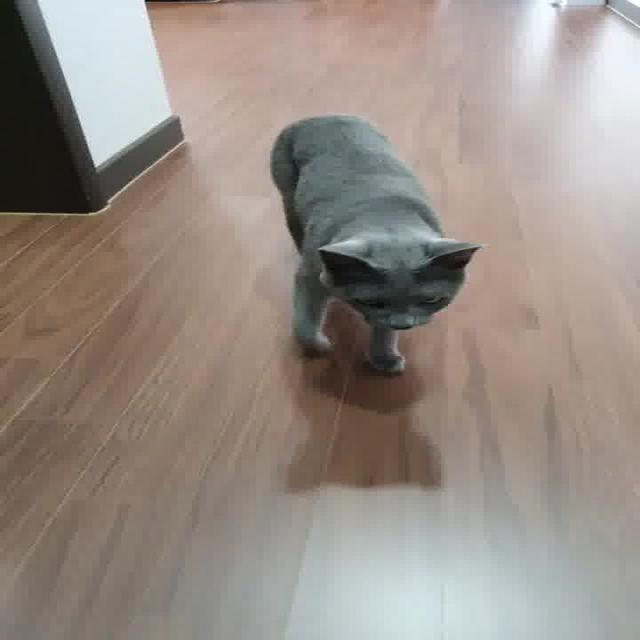cat: (221, 102, 486, 418)
